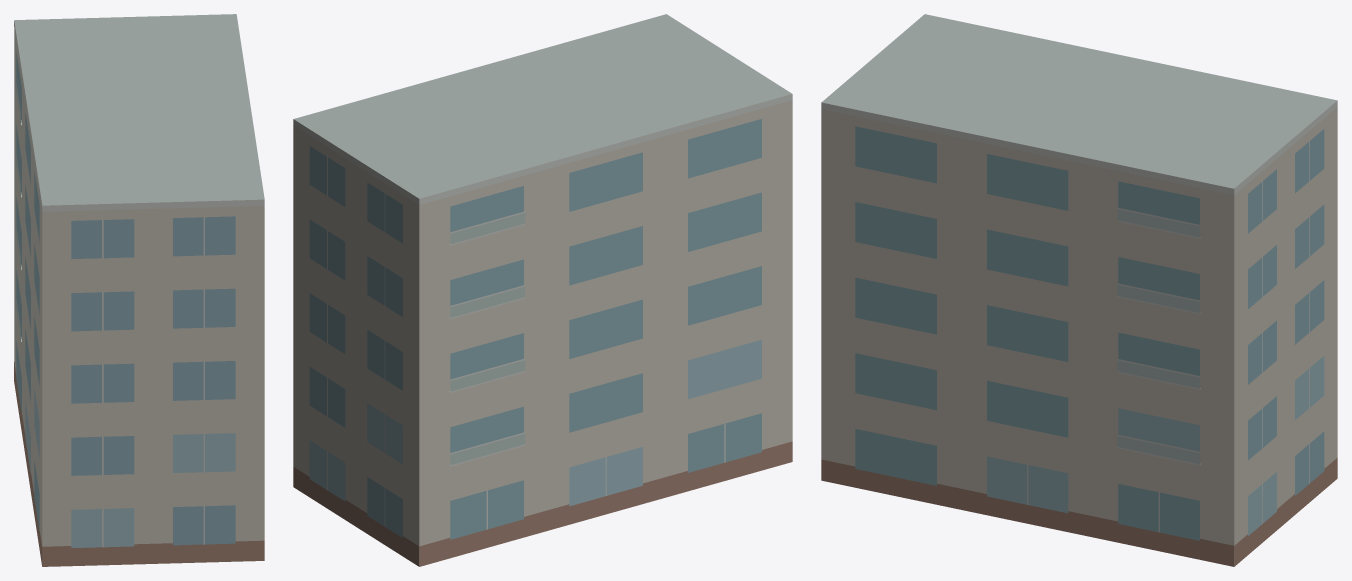
The model's file is survey-upis-32889607.glb.
3 views of the same model, side by side, from view 1: azimuth 30°, elevation 25°; view 2: azimuth 150°, elevation 25°; view 3: azimuth 270°, elevation 25° (orthographic). The views are drawn at different scales.
Visible parts, largest first — view 1: survey-upis-32889607.tmp; view 2: survey-upis-32889607.tmp; view 3: survey-upis-32889607.tmp.
Part boxes in pixels (left/top/right/bottom): survey-upis-32889607.tmp: left=14, top=14, right=264, bottom=566; survey-upis-32889607.tmp: left=293, top=14, right=792, bottom=566; survey-upis-32889607.tmp: left=821, top=14, right=1337, bottom=566.
Size of the model in its own units: 14.28 by 14.4 by 17.83.
